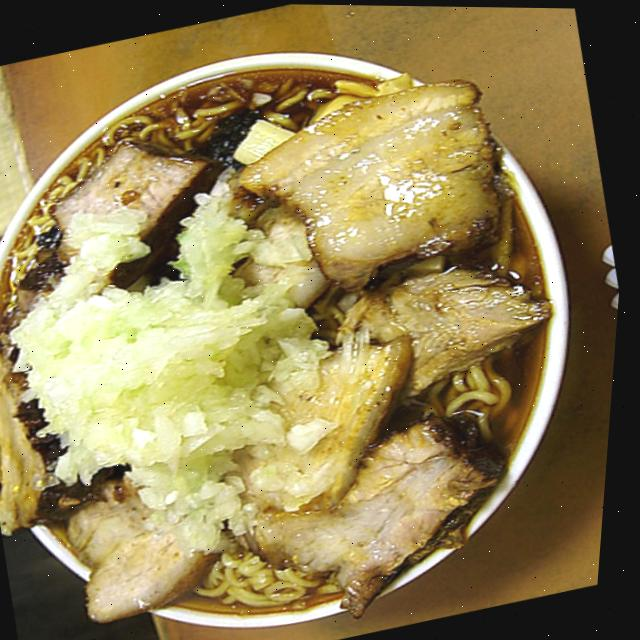面条主食: (0, 9, 626, 640)
